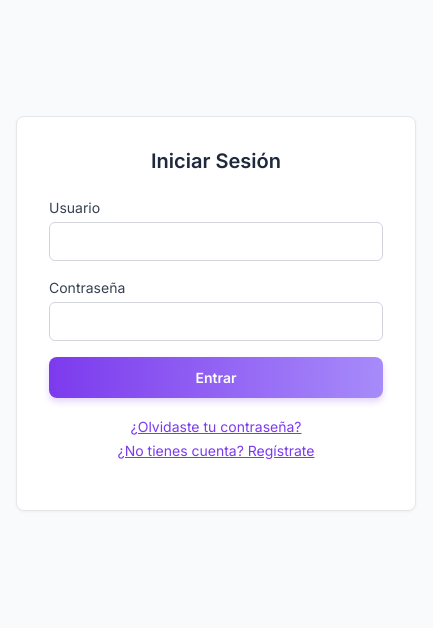
Test: muestra campos de registro al alternar
Click the button with class "auth-toggle-link" showing "¿No tienes cuenta? Regístrate".
click(216, 450)  # box [118,440,314,460]
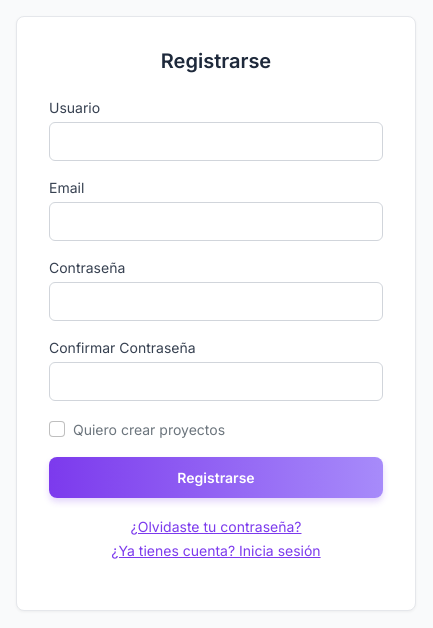
Now the text "Registrarse" is shown, box [161,48,271,72]
Now the field with id "email" is shown, box [49,202,383,240]
Now the password field with id "confirmPassword" is shown, box [49,362,383,400]
